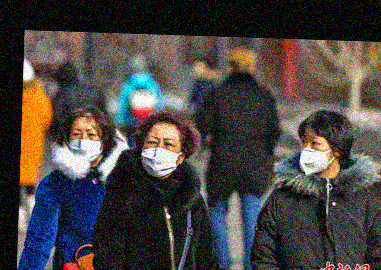with_mask: (141, 133, 182, 178), (299, 131, 334, 174), (67, 125, 101, 159)
